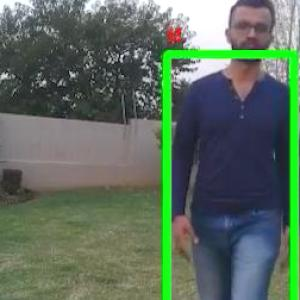follow: (178, 13, 284, 299)
